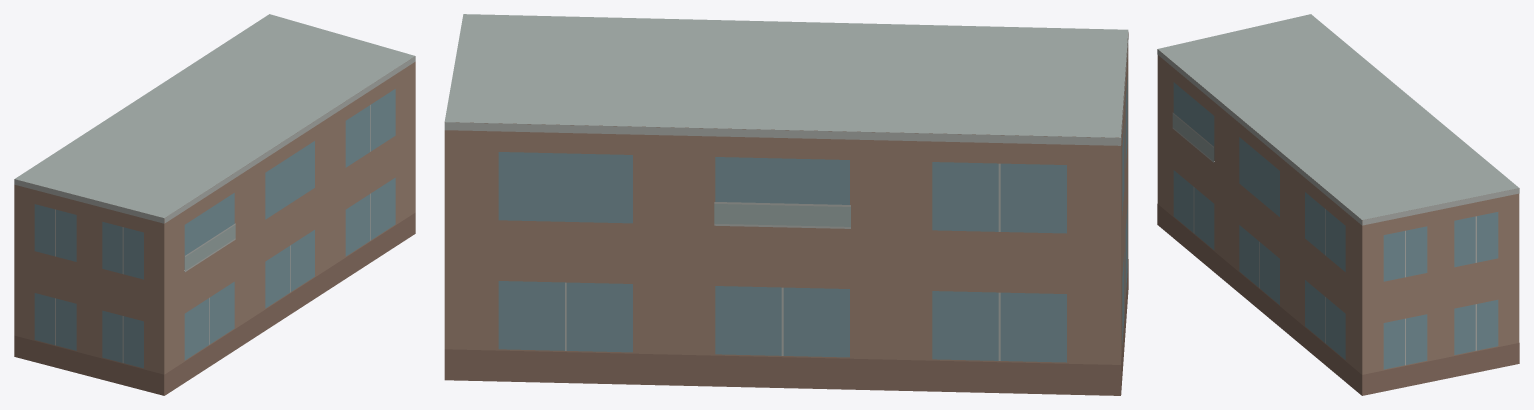
Rendered from survey-upis-32740892.glb.
The picture shows the model from 3 angles, left to right: view 1: azimuth 30°, elevation 25°; view 2: azimuth 150°, elevation 25°; view 3: azimuth 270°, elevation 25°; orthographic projection. The views are drawn at different scales.
Parts seen in each view (by area): view 1: survey-upis-32740892.tmp; view 2: survey-upis-32740892.tmp; view 3: survey-upis-32740892.tmp.
Boxes of the visible parts, box(x1,y1,x2,y2) form: survey-upis-32740892.tmp: box(14, 14, 415, 395); survey-upis-32740892.tmp: box(444, 14, 1128, 395); survey-upis-32740892.tmp: box(1157, 14, 1519, 395).
Bounding box in the file's own units: 19.62 × 7.8 × 14.57.
